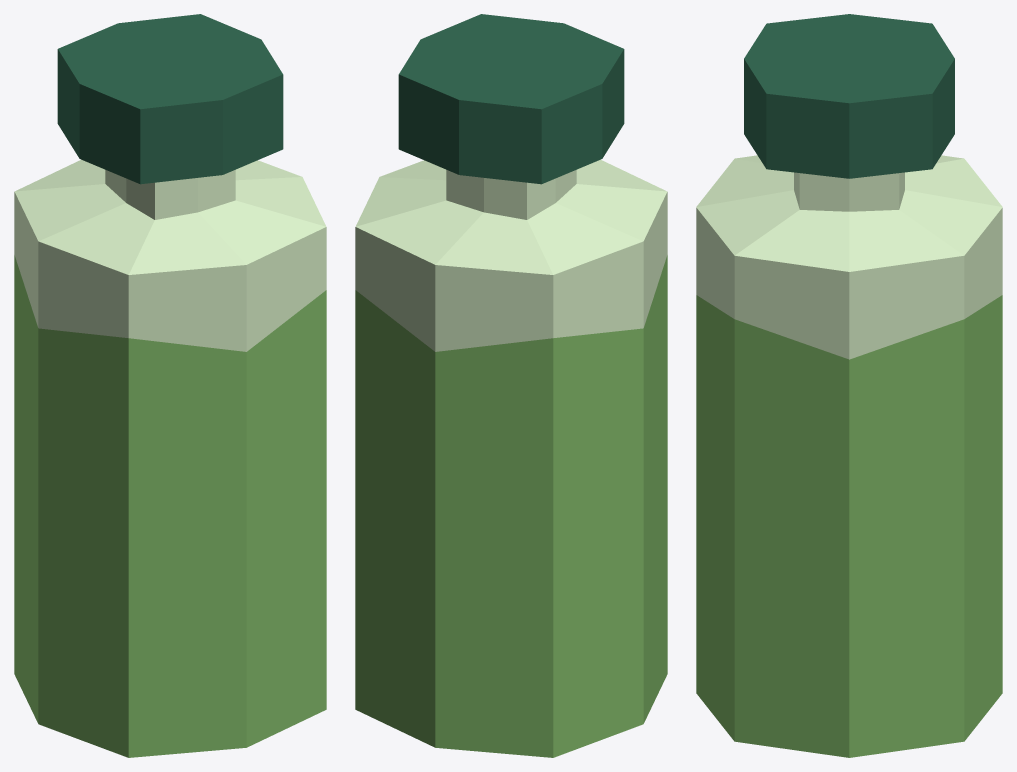
File: collectibles.fbx
3 views of the same model, side by side, from view 1: azimuth 30°, elevation 25°; view 2: azimuth 150°, elevation 25°; view 3: azimuth 270°, elevation 25° (orthographic).
Visible parts, largest first — view 1: Bottle; view 2: Bottle; view 3: Bottle.
Boxes of the visible parts, x1,y1,x2,y2 form: Bottle: [14, 14, 326, 757]; Bottle: [355, 14, 667, 757]; Bottle: [696, 14, 1002, 757].
Bounding box in the file's own units: 0.8184 × 1.87 × 0.8174.
Materials: 1 (1 with a texture image).
